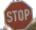Stop sign: (0, 0, 35, 29)
